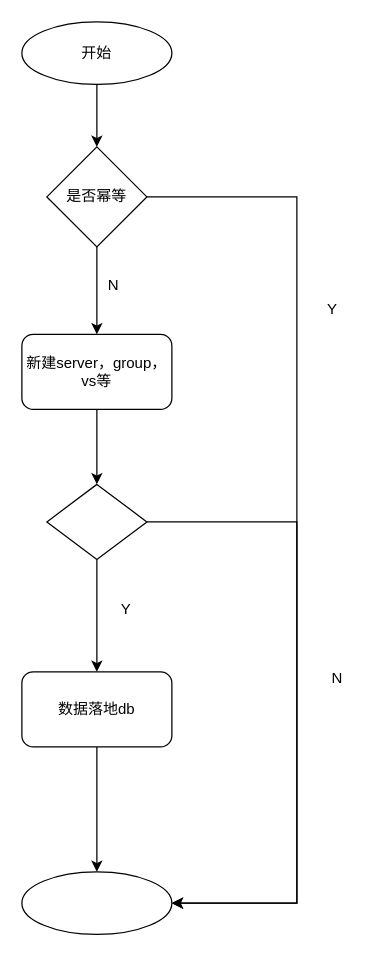
Some shapes in this 371 by 956 pixel diagram are drawn without their labels. Here are the shapes that lost their labels. From the top down, the centre of each, then its label:
(x=96, y=521): 是否成功
(x=96, y=902): 结束
